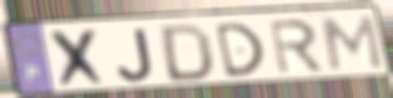D: (159, 22, 215, 84), (212, 21, 267, 80)
J: (114, 26, 156, 84)
M: (319, 13, 386, 73)
R: (266, 17, 326, 77)
X: (47, 26, 111, 91)
